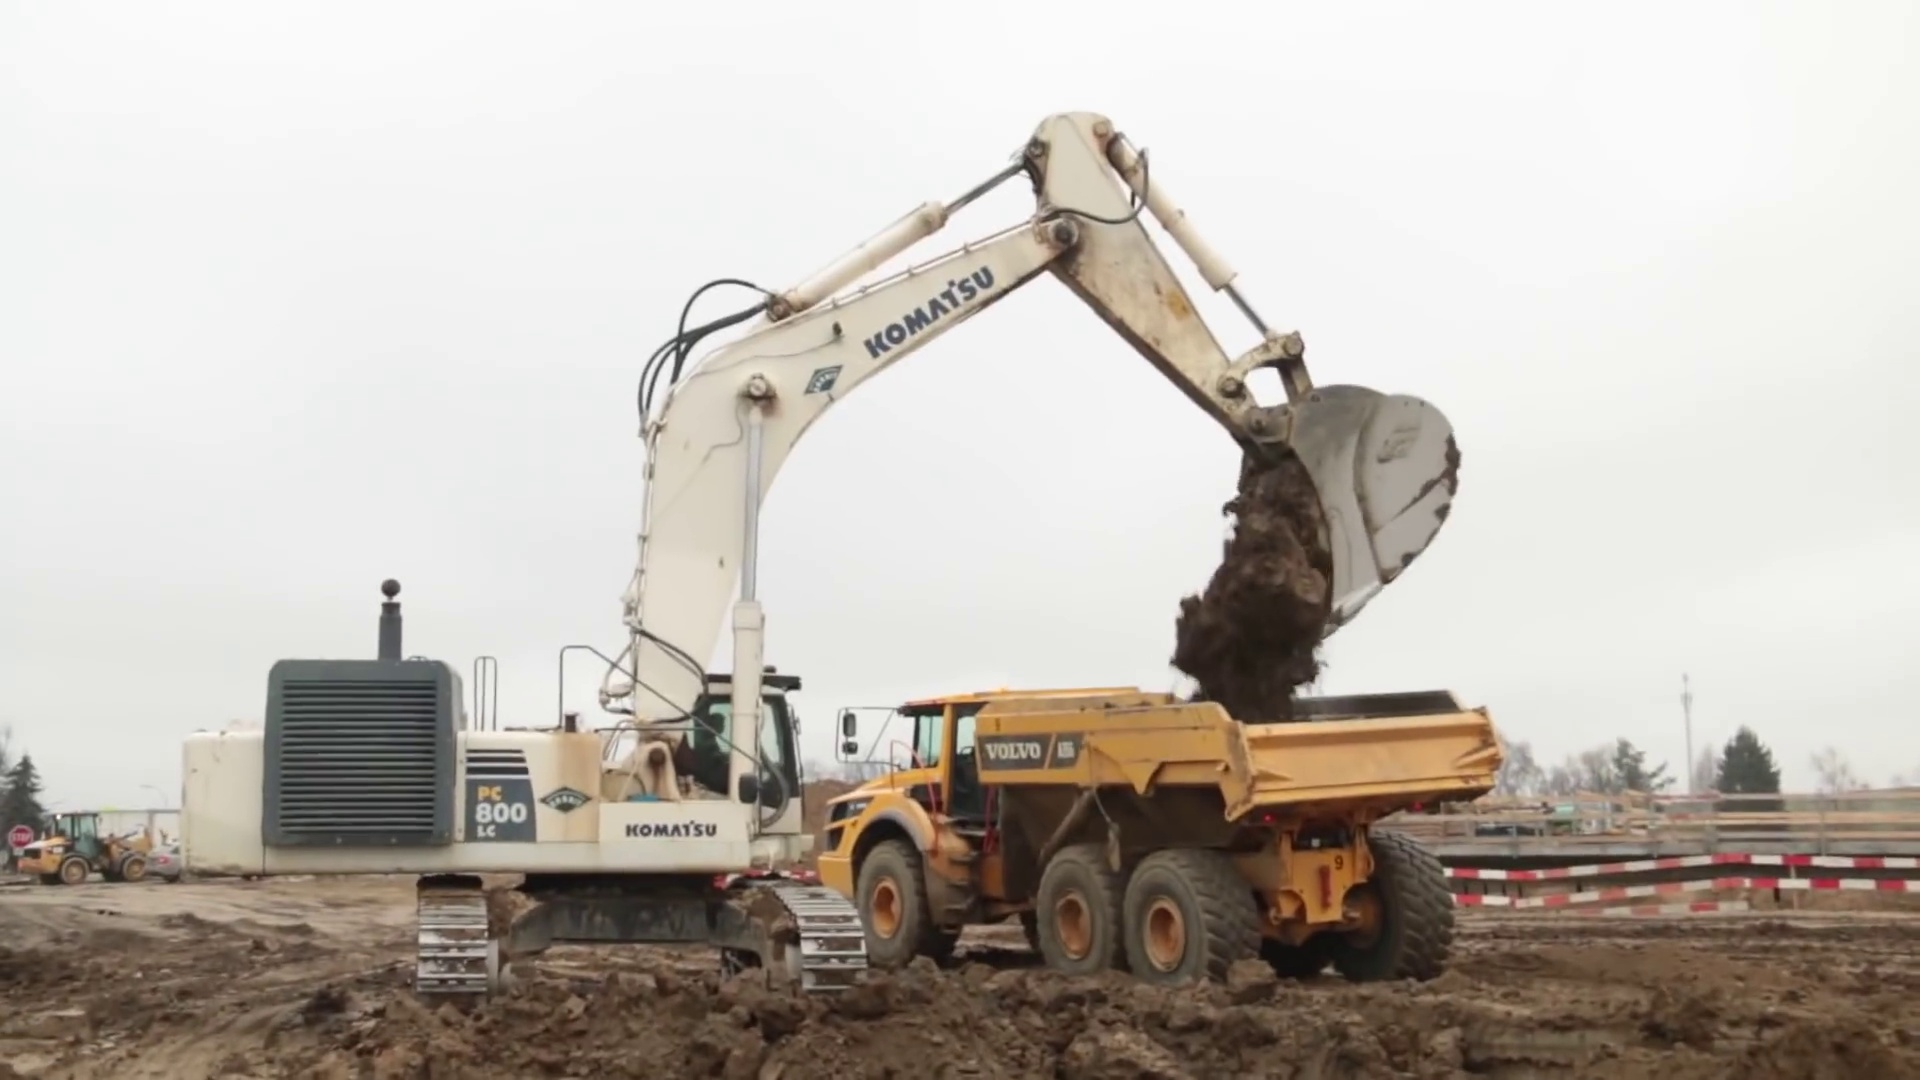dumper: (818, 679, 1502, 996)
excavator: (175, 111, 1461, 1038)
